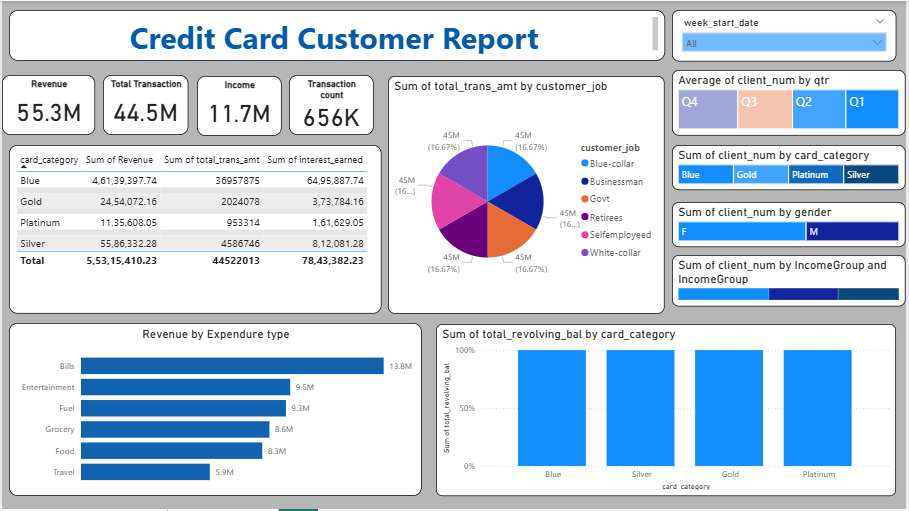

This screenshot's page, from the dashboard's own definition file:
{"tool":"powerbi","page":{"name":"CC Customer","canvas":[1280,720],"ordinal":1},"visuals":[{"type":"textbox","box":[9.9,12.3,930,71.5],"z":0},{"type":"barChart","title":"Revenue by Expendure type","fields":{"Category":["public cc_detail.exp_type"],"Y":["Sum(public cc_detail.Revenue)"]},"box":[9.9,456.4,584.6,245.4],"z":1000},{"type":"tableEx","fields":{"Values":["public cc_detail.card_category","Sum(public cc_detail.Revenue)","Sum(public cc_detail.total_trans_amt)","Sum(public cc_detail.interest_earned)"]},"box":[9.9,203.5,527.9,239.3],"z":2000},{"type":"card","title":"Revenue","fields":{"Values":["Sum(public cc_detail.Revenue)"]},"box":[0,104.8,132,85.1],"z":3000},{"type":"card","title":"Total Transaction","fields":{"Values":["Sum(public cc_detail.total_trans_amt)"]},"box":[143.1,104.8,120.9,85.1],"z":4000},{"type":"card","title":"Income","fields":{"Values":["Sum(public cust_detail.income)"]},"box":[276.3,106.1,119.6,85],"z":5000},{"type":"card","title":"Transaction count","fields":{"Values":["Sum(public cc_detail.total_trans_ct)"]},"box":[407,104.8,119.6,85.1],"z":6000},{"type":"slicer","fields":{"Values":["public cc_detail.week_start_date"]},"box":[949.7,12.3,318.2,72.8],"z":7000},{"type":"treemap","fields":{"Group":["public cc_detail.qtr"],"Values":["Avg(public cc_detail.client_num)"]},"box":[949.5,97.4,330.5,92.5],"z":8000},{"type":"treemap","fields":{"Group":["public cust_detail.gender"],"Values":["Sum(public cust_detail.client_num)"]},"box":[949.5,284.9,330.5,64.1],"z":9000},{"type":"treemap","fields":{"Group":["public cc_detail.card_category"],"Values":["Sum(public cust_detail.client_num)"]},"box":[949.5,203.5,330.5,64.1],"z":10000},{"type":"treemap","fields":{"Group":["public cust_detail.IncomeGroup"],"Values":["Sum(public cust_detail.client_num)"],"Details":["public cust_detail.IncomeGroup"]},"box":[949.5,360.1,330.5,72.8],"z":11000},{"type":"pieChart","fields":{"Category":["public cust_detail.customer_job"],"Y":["Sum(public cc_detail.total_trans_amt)"]},"box":[547.6,106.1,392.2,336.7],"z":12000},{"type":"hundredPercentStackedColumnChart","fields":{"Y":["Sum(public cc_detail.total_revolving_bal)"],"Category":["public cc_detail.card_category"]},"box":[615.5,457.6,652.5,244.2],"z":13000}]}

Visuals, with their boxes in screenshot pixels (x1, y1, x2, y2), scaled from the page's 1280x720 canvas onto the 909x511 screenshot:
textbox: 7/9/667/59
"Revenue by Expendure type" barChart: 7/324/422/498
tableEx - public cc_detail.card_category x Sum(public cc_detail.Revenue): 7/144/382/314
"Revenue" card: 0/74/94/135
"Total Transaction" card: 102/74/187/135
"Income" card: 196/75/281/136
"Transaction count" card: 289/74/374/135
slicer - public cc_detail.week_start_date: 674/9/900/60
treemap - public cc_detail.qtr x Avg(public cc_detail.client_num): 674/69/908/135
treemap - public cust_detail.gender x Sum(public cust_detail.client_num): 674/202/908/248
treemap - public cc_detail.card_category x Sum(public cust_detail.client_num): 674/144/908/190
treemap - public cust_detail.IncomeGroup x Sum(public cust_detail.client_num): 674/256/908/307
pieChart - public cust_detail.customer_job x Sum(public cc_detail.total_trans_amt): 389/75/667/314
hundredPercentStackedColumnChart - Sum(public cc_detail.total_revolving_bal) x public cc_detail.card_category: 437/325/900/498
